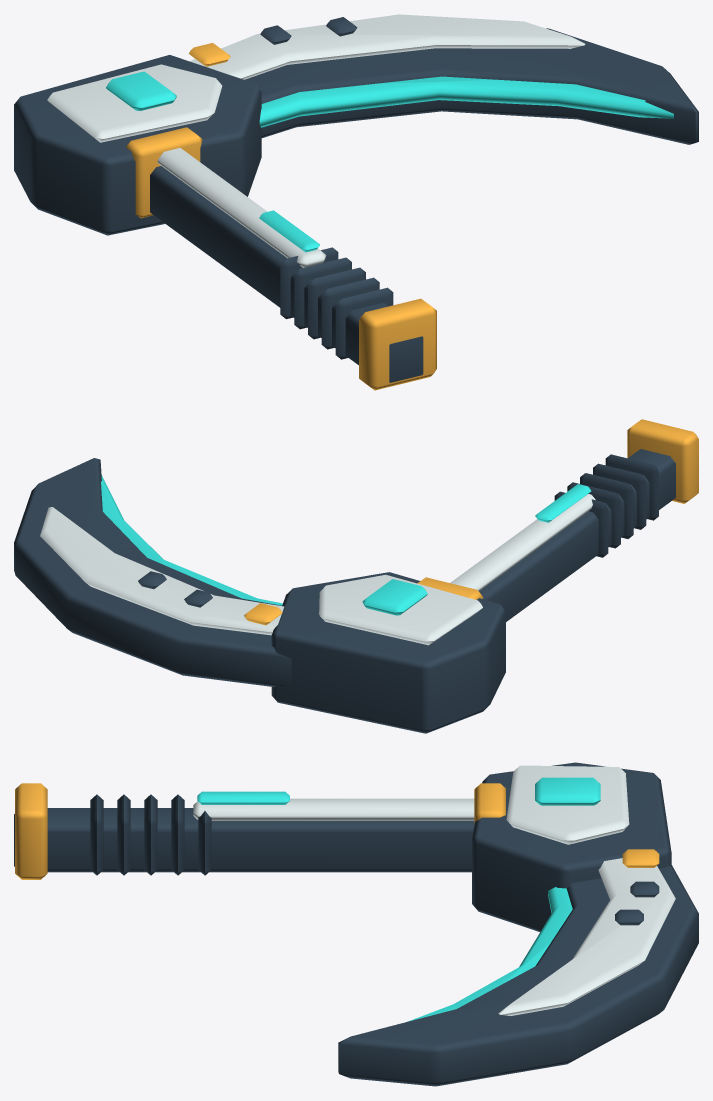
Rendered from SciFiScythe.fbx.
3 renders of one model, top to bottom at view 1: azimuth 30°, elevation 25°; view 2: azimuth 150°, elevation 25°; view 3: azimuth 270°, elevation 25°, orthographic. The views are drawn at different scales.
Visible parts, largest first — view 1: Scythe_Gunmetal, Scythe_Ceramic, Scythe_Plasma, Scythe_Amber; view 2: Scythe_Gunmetal, Scythe_Ceramic, Scythe_Amber, Scythe_Plasma; view 3: Scythe_Gunmetal, Scythe_Ceramic, Scythe_Plasma, Scythe_Amber.
Boxes of the visible parts, bbox=[...] form: Scythe_Gunmetal: bbox=[14, 17, 698, 382]; Scythe_Ceramic: bbox=[47, 14, 585, 267]; Scythe_Plasma: bbox=[106, 71, 673, 252]; Scythe_Amber: bbox=[126, 43, 436, 390]; Scythe_Gunmetal: bbox=[14, 449, 675, 733]; Scythe_Ceramic: bbox=[40, 494, 595, 645]; Scythe_Amber: bbox=[244, 419, 698, 625]; Scythe_Plasma: bbox=[101, 475, 591, 615]; Scythe_Gunmetal: bbox=[14, 762, 698, 1086]; Scythe_Ceramic: bbox=[193, 765, 675, 1015]; Scythe_Plasma: bbox=[197, 777, 600, 1021]; Scythe_Amber: bbox=[15, 783, 659, 879].
Bounding box in the file's own units: 165 × 29 × 178.
